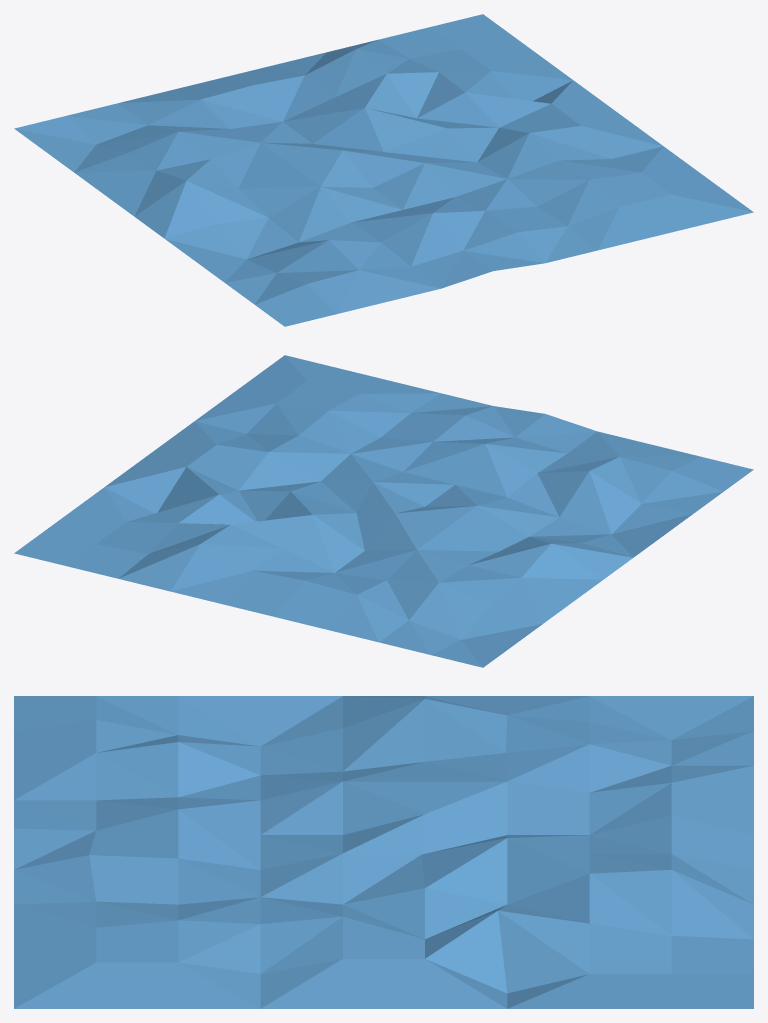
The model's file is agua.fbx.
3 views of the same model, one above another, from view 1: azimuth 30°, elevation 25°; view 2: azimuth 150°, elevation 25°; view 3: azimuth 270°, elevation 25° (orthographic). The views are drawn at different scales.
Parts seen in each view (by area): view 1: Plane; view 2: Plane; view 3: Plane.
Boxes of the visible parts, bbox=[...] form: Plane: bbox=[14, 14, 753, 326]; Plane: bbox=[14, 355, 753, 667]; Plane: bbox=[14, 696, 753, 1008].
Size of the model in its own units: 598 by 48.34 by 598.
